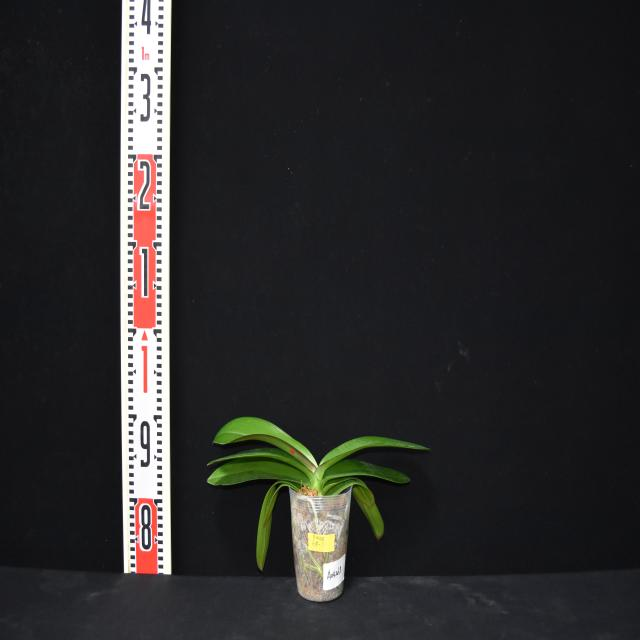leaf: (213, 417, 318, 473), (313, 435, 430, 482), (326, 477, 383, 539), (257, 482, 296, 571), (207, 458, 311, 486), (205, 449, 307, 473), (324, 460, 411, 482)
